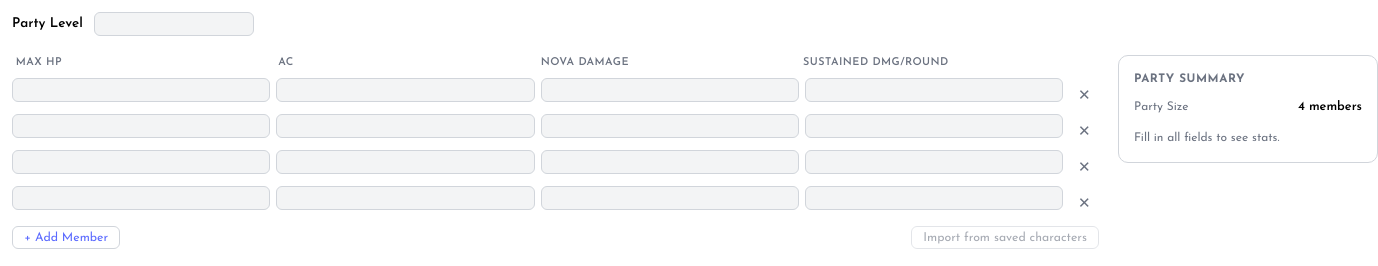
Remove button is disabled when only 1 member remains
The image size is (1378, 266).
# Remove 3 members to get down to 1
Click the button named "remove member" at (1084, 203), box [1069, 191, 1099, 215]
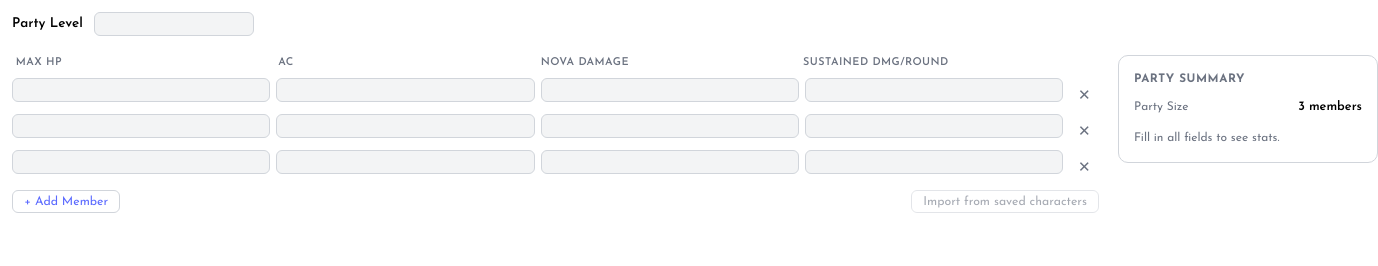
Click the button named "remove member" at (1084, 167), box [1069, 155, 1099, 179]
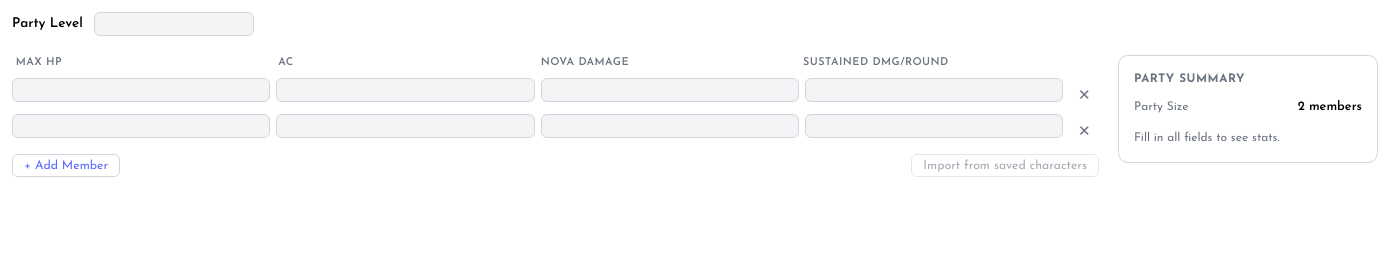
Click the button named "remove member" at (1084, 131), box [1069, 119, 1099, 143]
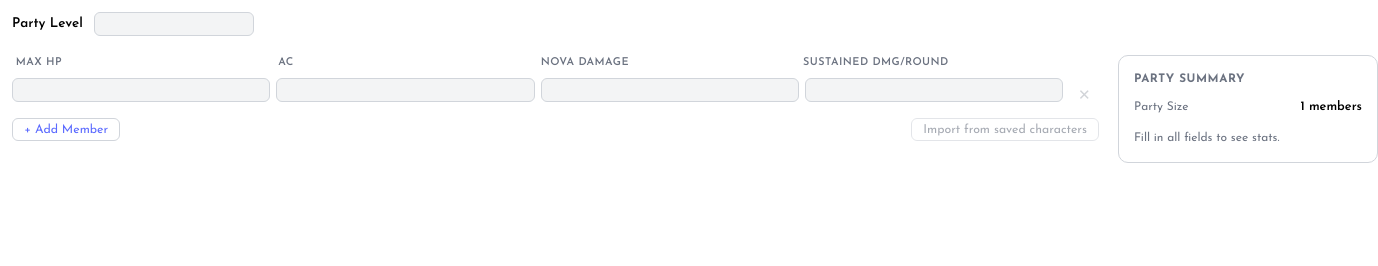
Result: the button named "remove member 1" is disabled at [1069, 83, 1099, 107]
